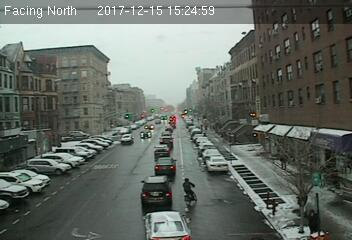bicycle: (179, 176, 199, 208)
car: (143, 211, 191, 240), (139, 177, 172, 207), (154, 156, 176, 175), (205, 156, 230, 172), (153, 144, 170, 156), (120, 134, 134, 144), (140, 130, 151, 139)
